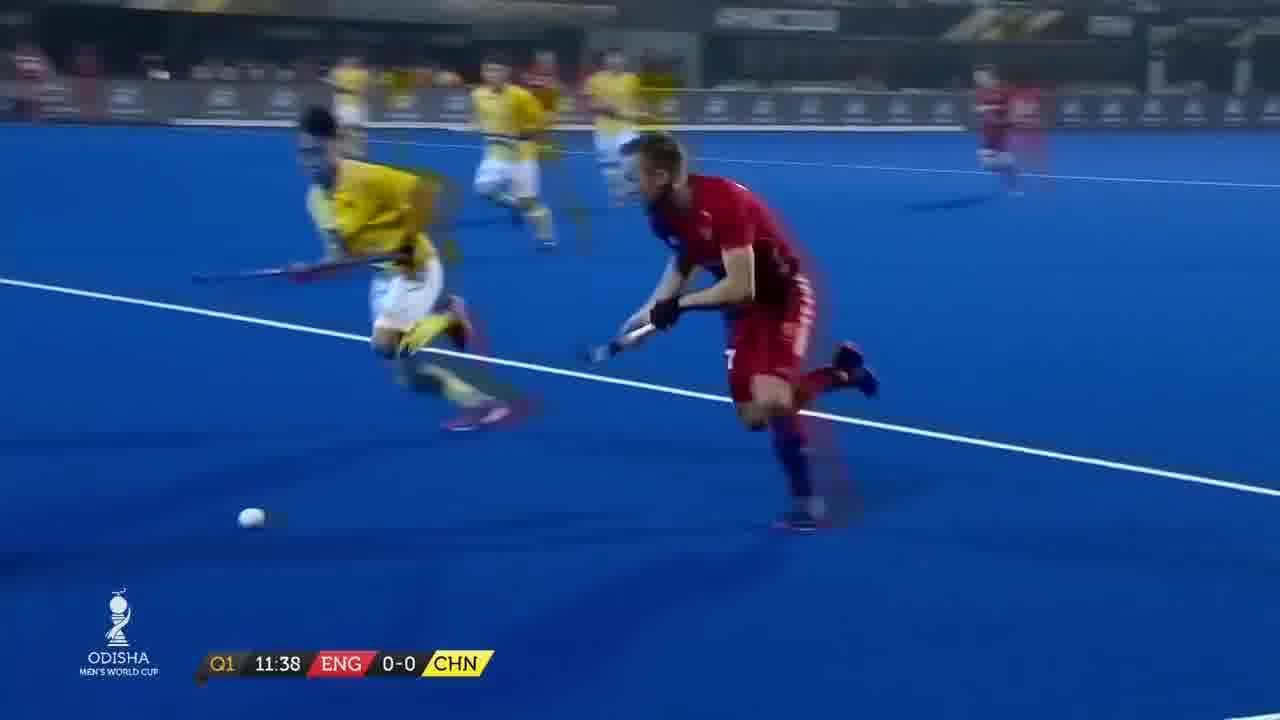ball: (234, 504, 280, 535)
